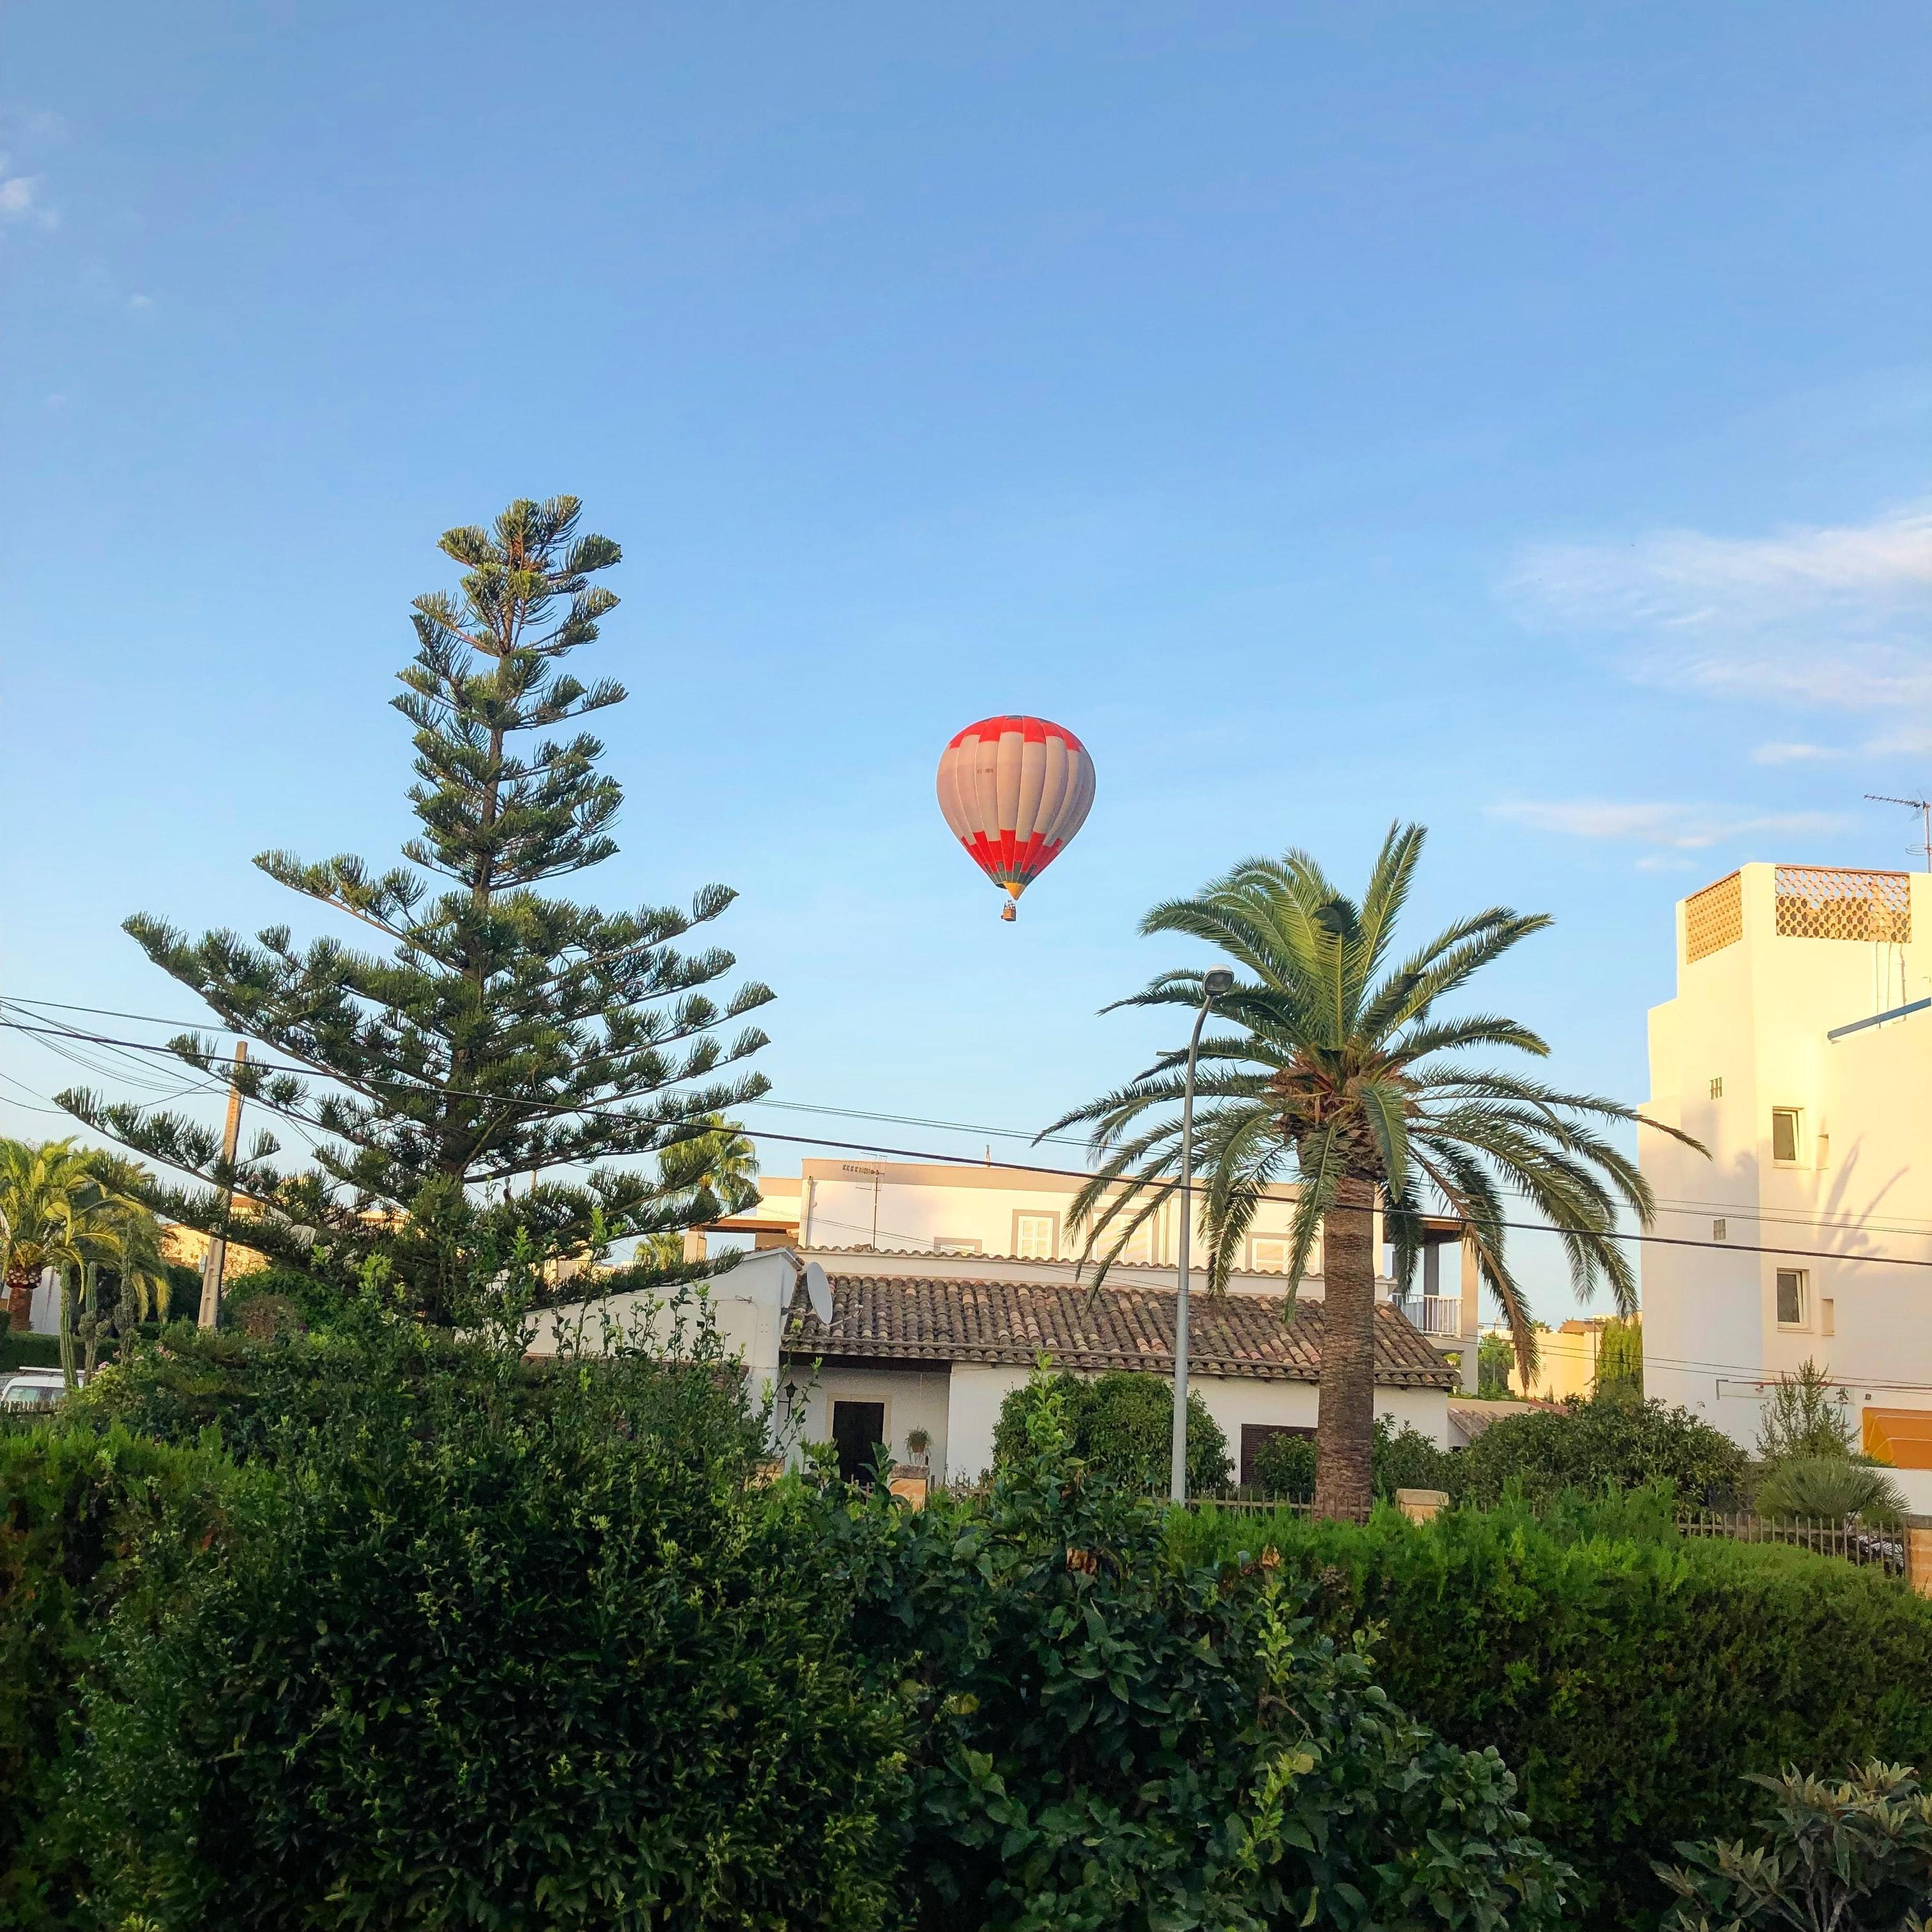hot air ballon: (932, 713, 1097, 922)
